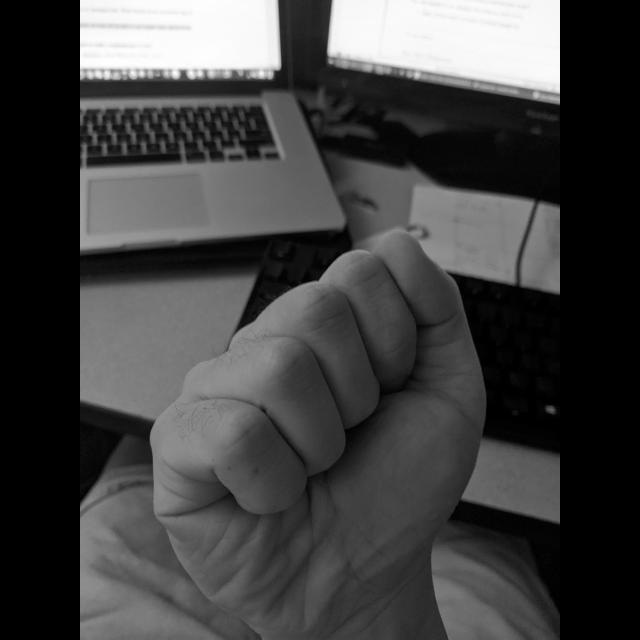A: (140, 221, 494, 639)
